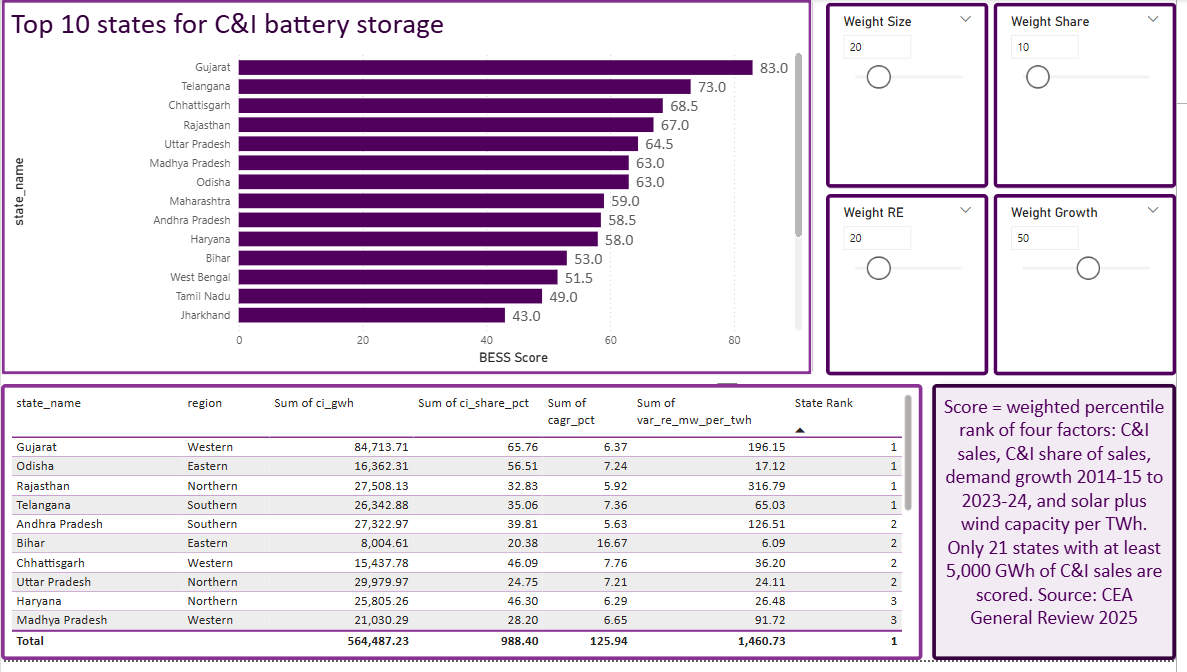

This screenshot's page, from the dashboard's own definition file:
{"tool":"powerbi","page":{"name":"BESS attractiveness ranking","canvas":[1280,720],"ordinal":3},"visuals":[{"type":"clusteredBarChart","title":"Top 10 states for C&I battery storage","fields":{"Y":["v_state_scores.BESS Score"],"Category":["v_state_scores.state_name"]},"box":[0,0,883.9,410],"z":0},{"type":"slicer","fields":{"Values":["Weight Growth.Weight Growth"]},"box":[1081.4,212.5,198.9,197.5],"z":1},{"type":"slicer","fields":{"Values":["Weight RE.Weight RE"]},"box":[898.9,212.5,177.1,197.5],"z":2},{"type":"slicer","fields":{"Values":["Weight Share.Weight Share"]},"box":[1081.4,4.1,198.9,201.6],"z":3},{"type":"slicer","fields":{"Values":["Weight Size.Weight Size"]},"box":[898.9,4.1,177.1,201.6],"z":4},{"type":"tableEx","fields":{"Values":["v_state_scores.state_name","v_state_scores.region","Sum(v_state_scores.ci_gwh)","Sum(v_state_scores.ci_share_pct)","Sum(v_state_scores.cagr_pct)","Sum(v_state_scores.var_re_mw_per_twh)","v_state_scores.State Rank"]},"box":[0,419.5,1003.8,301],"z":5},{"type":"textbox","box":[1014.7,419.5,265.6,301],"z":6}]}

Visuals, with their boxes in screenshot pixels (x1, y1, x2, y2), scaled from the page's 1280x720 canvas onto the 1187x672 screenshot:
"Top 10 states for C&I battery storage" clusteredBarChart: rect(0, 0, 820, 383)
slicer - Weight Growth.Weight Growth: rect(1003, 198, 1186, 383)
slicer - Weight RE.Weight RE: rect(834, 198, 998, 383)
slicer - Weight Share.Weight Share: rect(1003, 4, 1186, 192)
slicer - Weight Size.Weight Size: rect(834, 4, 998, 192)
tableEx - v_state_scores.state_name x v_state_scores.region: rect(0, 392, 931, 671)
textbox: rect(941, 392, 1186, 671)
